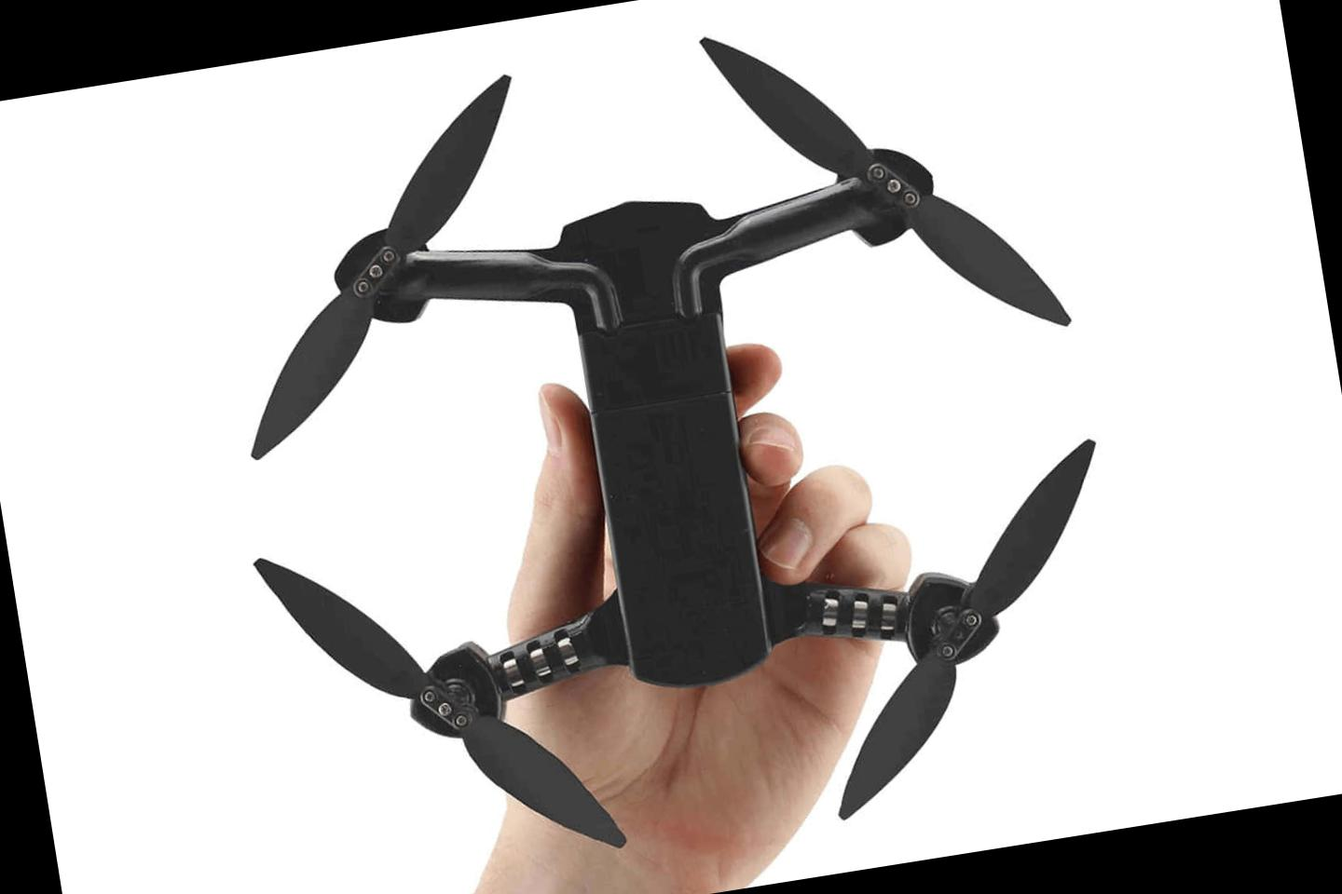drone: (167, 0, 1212, 894)
